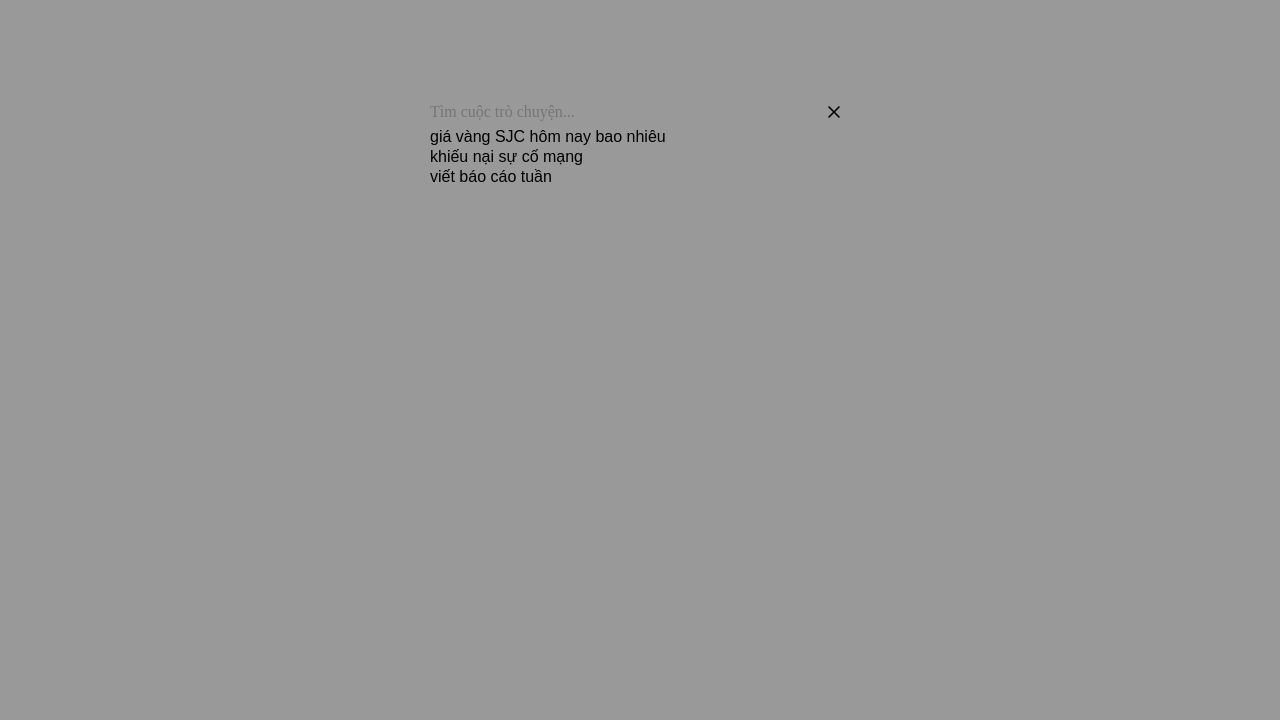
Scenario: SearchModal › gõ vào -> hiện skeleton NGAY (đang chờ debounce), chưa lọc list vội
Type "khiếu nại" into the field with placeholder "Tìm cuộc trò chuyện..." at (624, 112), box [430,103,818,121]
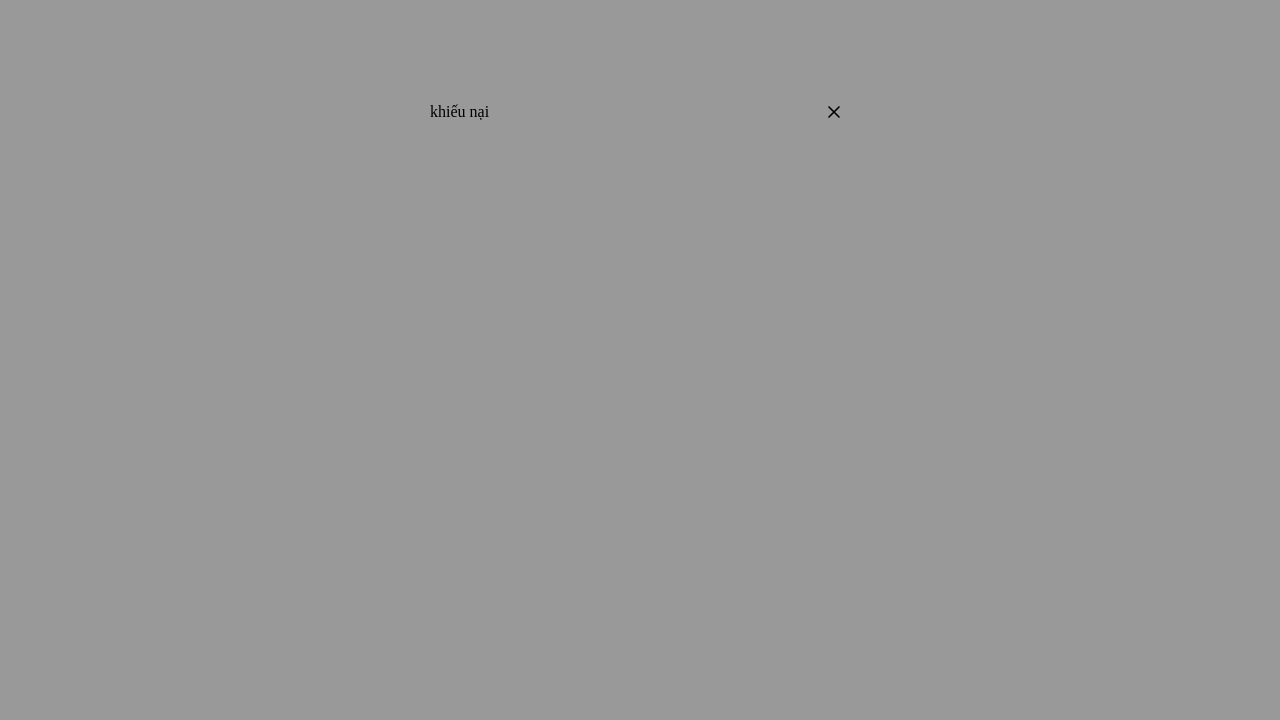
Now the button "viết báo cáo tuần" is gone
